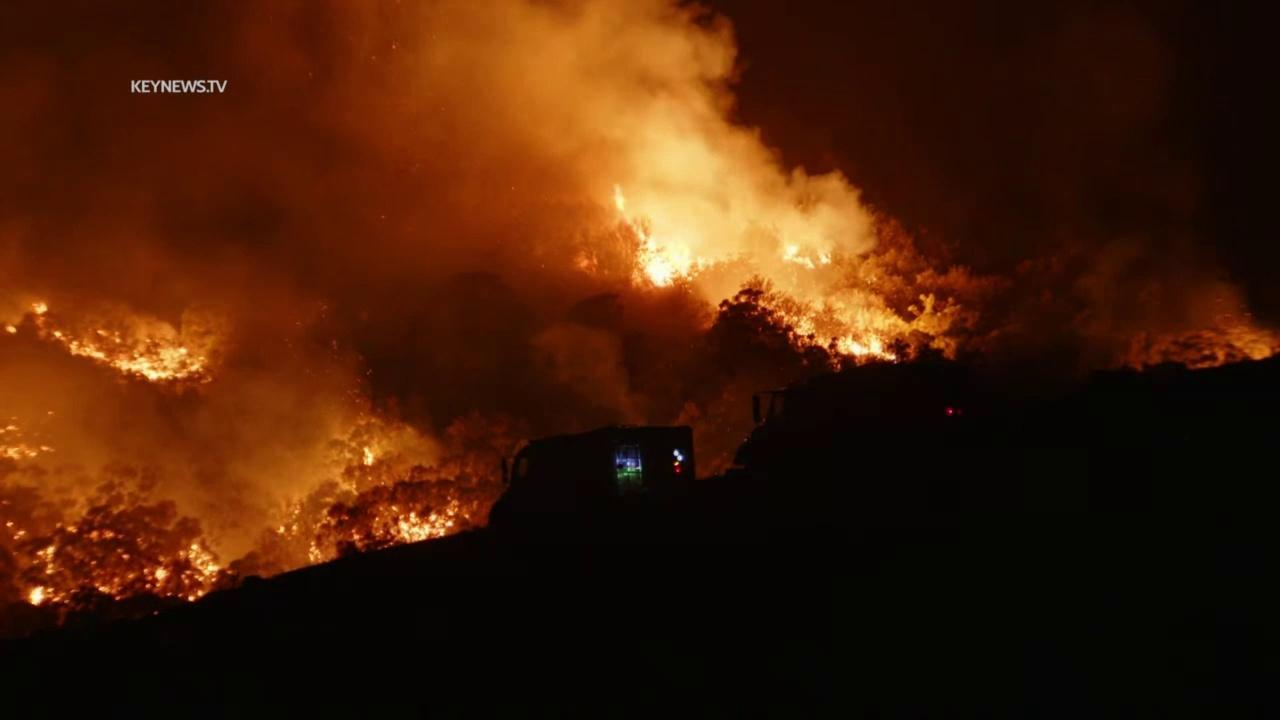fire: (27, 300, 209, 382), (83, 528, 234, 604), (351, 498, 461, 555), (631, 230, 716, 287), (0, 415, 57, 463), (846, 334, 901, 365), (779, 241, 834, 267), (275, 496, 302, 540), (23, 583, 68, 608), (609, 182, 631, 222), (32, 544, 57, 575), (307, 538, 322, 567), (361, 445, 374, 468), (5, 323, 19, 338)
smoke: (0, 0, 1239, 642)
